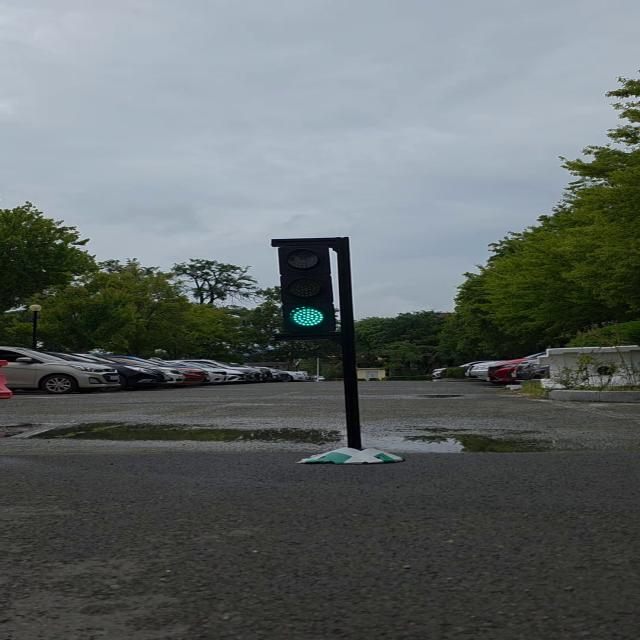green: (279, 240, 348, 339)
